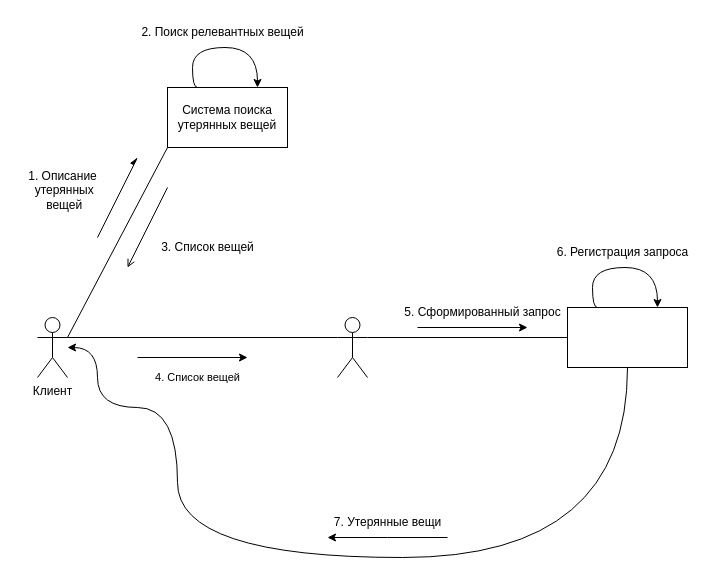
This 719x575 diagram has some shape labels left out. The shapes that lost their labels are listed below. From the top down, each one's centre as x and y in pixels, then its label:
At [352,347]: "Менеджер".
At [627,337]: "Система управления заказами".
